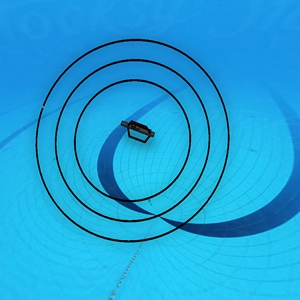circle: (28, 32, 228, 241)
submarine: (120, 117, 157, 142)
